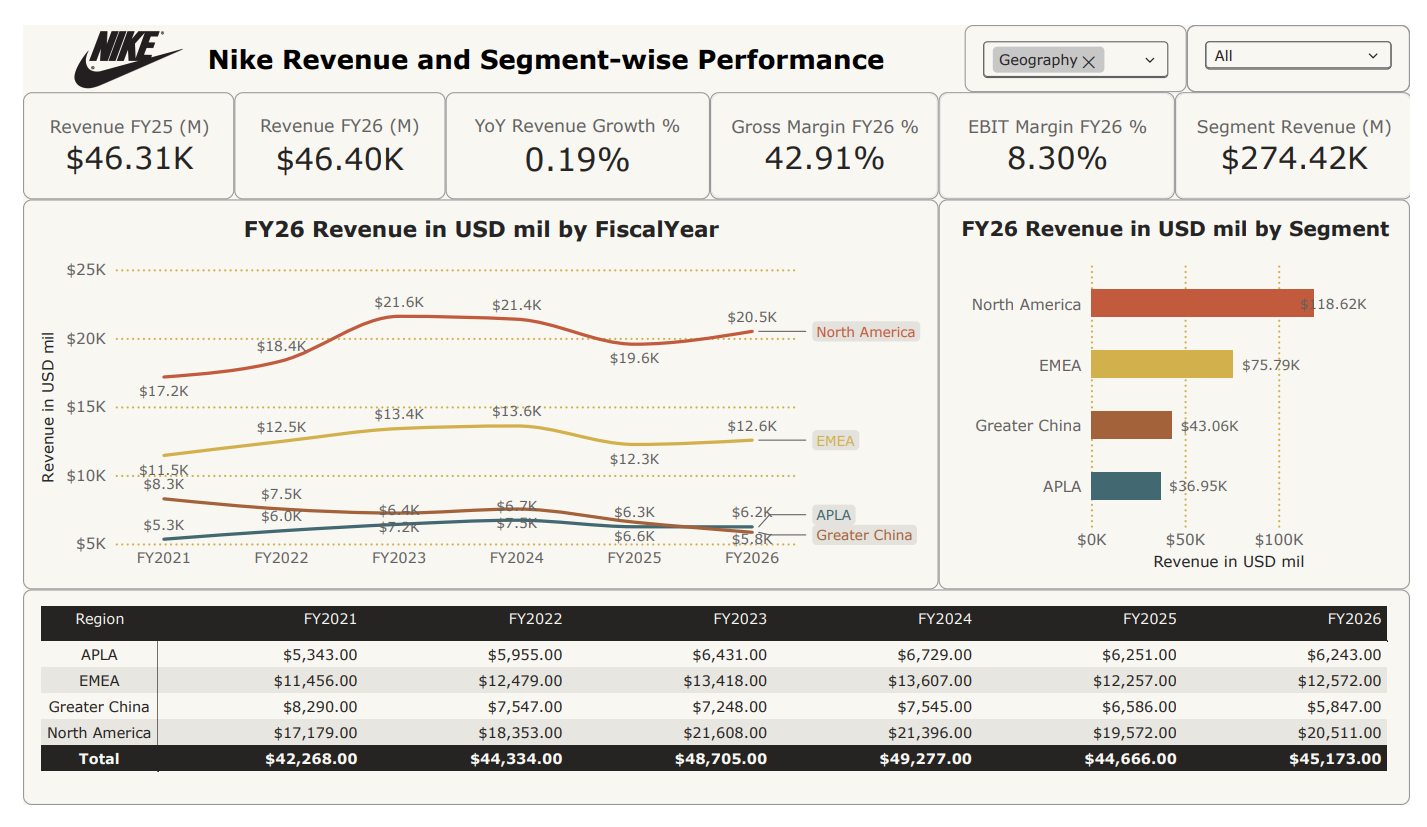

What the dashboard file says about the page in this screenshot:
{"tool":"powerbi","page":{"name":"Page 2","canvas":[1280,720],"ordinal":1},"visuals":[{"type":"lineChart","title":"FY26 Revenue in USD mil by FiscalYear","fields":{"Category":["NikeRegions.FiscalYear"],"Series":["NikeRegions.Region"],"Y":["Sum(NikeRegions.Revenue_USD_m)"]},"box":[0,160.5,845.3,360.9],"z":0},{"type":"barChart","title":"FY26 Revenue in USD mil by Segment","fields":{"Category":["NikeRegions.Region"],"Series":["NikeRegions.Region"],"Y":["Sum(NikeRegions.Revenue_USD_m)"]},"box":[845.3,160.5,435,360.9],"z":1000},{"type":"pivotTable","title":"Revenue in USD mil by FiscalYear and Segment","fields":{"Columns":["NikeRegions.FiscalYear"],"Rows":["NikeRegions.Region"],"Values":["NikeRegions.Region Revenue (M)"]},"box":[0,521.4,1280.3,199],"z":2000},{"type":"listSlicer","fields":{"Values":["NikeRegions.FiscalYear"]},"box":[1074.4,0,205.8,61.7],"z":3000},{"type":"cardVisual","fields":{"Data":["NikeRegions.Revenue FY26 (M)"]},"box":[194.9,61.7,194.9,98.8],"z":4000},{"type":"listSlicer","fields":{"Values":["NikeRegions.FiscalYear"]},"box":[1074.2,0,205.8,61.7],"z":5000},{"type":"listSlicer","fields":{"Values":["NikeRegions.Segment_Type"]},"box":[868.6,0,205.8,61.7],"z":6000},{"type":"textbox","box":[97.4,0,771.2,61.7],"z":7000},{"type":"cardVisual","fields":{"Data":["NikeRegions.Revenue FY25 (M)"]},"box":[0,61.7,194.9,98.8],"z":8000},{"type":"cardVisual","fields":{"Data":["NikeRevenue.Gross Margin FY26 %"]},"box":[634,61.7,211.3,98.8],"z":9000},{"type":"cardVisual","fields":{"Data":["NikeRevenue.EBIT Margin FY26 %"]},"box":[845.3,61.7,218.2,98.8],"z":10000},{"type":"cardVisual","fields":{"Data":["NikeRegions.Region Revenue (M)"]},"box":[1063.5,61.7,218.2,98.8],"z":11000},{"type":"cardVisual","fields":{"Data":["NikeRegions.YoY Revenue Growth %"]},"box":[389.7,61.7,244.3,98.8],"z":12000},{"type":"image","box":[0,0,194.9,61.7],"z":13000}]}

Visuals, with their boxes in screenshot pixels (x1, y1, x2, y2), scaled from the page's 1280x720 canvas onto the 1427x827 screenshot:
"FY26 Revenue in USD mil by FiscalYear" lineChart: rect(0, 184, 942, 599)
"FY26 Revenue in USD mil by Segment" barChart: rect(942, 184, 1426, 599)
"Revenue in USD mil by FiscalYear and Segment" pivotTable: rect(0, 599, 1426, 826)
listSlicer - NikeRegions.FiscalYear: rect(1198, 0, 1426, 71)
cardVisual - NikeRegions.Revenue FY26 (M): rect(217, 71, 435, 184)
listSlicer - NikeRegions.FiscalYear: rect(1198, 0, 1426, 71)
listSlicer - NikeRegions.Segment_Type: rect(968, 0, 1198, 71)
textbox: rect(109, 0, 968, 71)
cardVisual - NikeRegions.Revenue FY25 (M): rect(0, 71, 217, 184)
cardVisual - NikeRevenue.Gross Margin FY26 %: rect(707, 71, 942, 184)
cardVisual - NikeRevenue.EBIT Margin FY26 %: rect(942, 71, 1186, 184)
cardVisual - NikeRegions.Region Revenue (M): rect(1186, 71, 1426, 184)
cardVisual - NikeRegions.YoY Revenue Growth %: rect(434, 71, 707, 184)
image: rect(0, 0, 217, 71)
